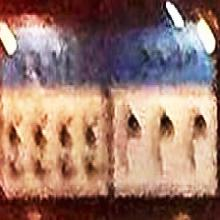4: (28, 112, 53, 186), (55, 111, 79, 186), (82, 112, 106, 182), (4, 110, 27, 179)
meem: (151, 106, 177, 186), (184, 106, 208, 181), (118, 111, 144, 180)
